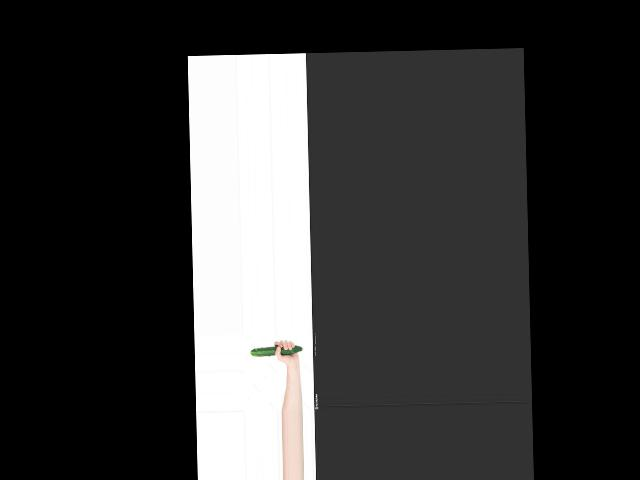cucumber: (250, 344, 303, 356)
